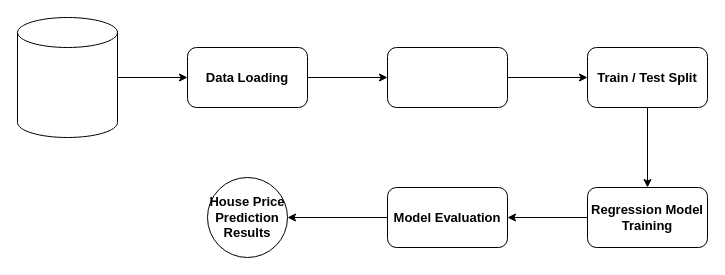
The diagram is 725 pixels wide and 275 high, and some of its shapes have lost their labels. Here are the shapes that lost their labels. From the top down, the box of each, then its label:
(16, 16, 118, 138): Dataset Selection
(386, 46, 508, 108): Data Preprocessing
